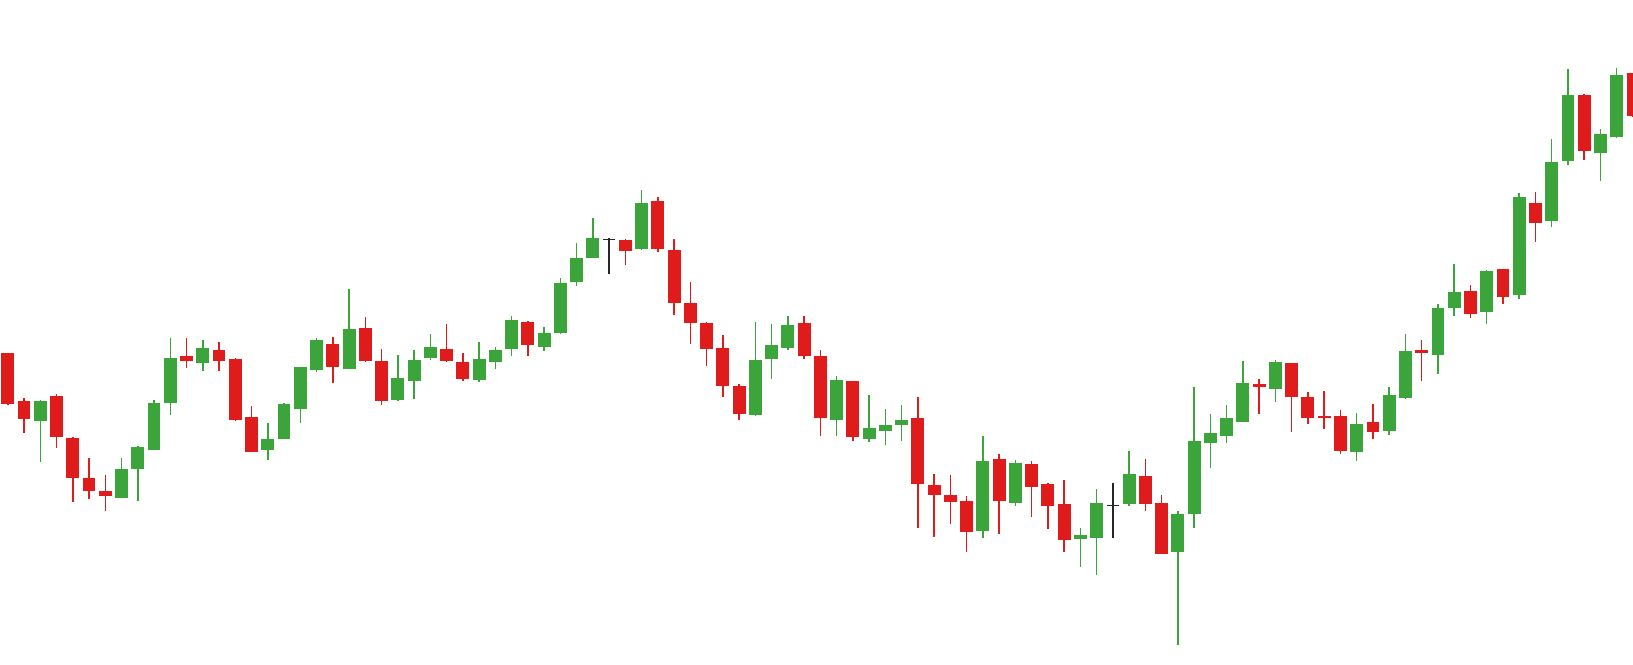buy: (1086, 485, 1184, 646)
